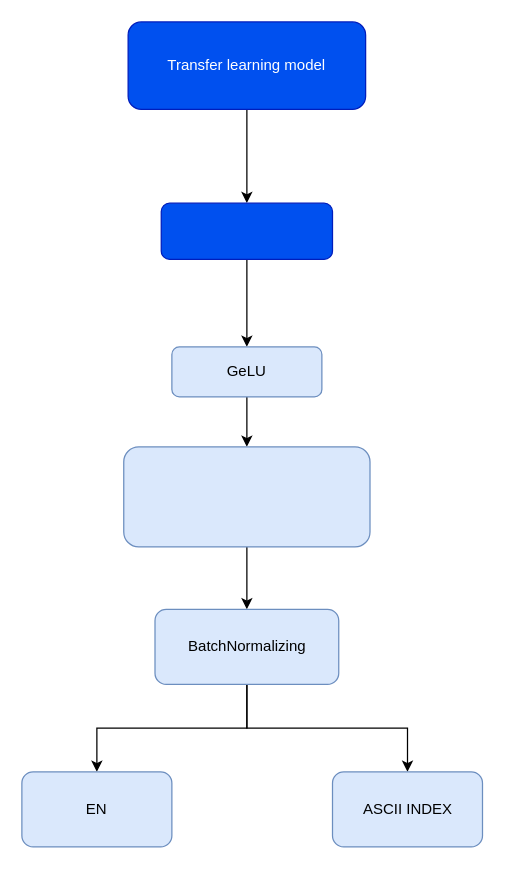
The diagram is 505 pixels wide and 869 high, and some of its shapes have lost their labels. The box of each missing label's shape, as (x1, y1, x2, y2) in pixels:
last layers (trainable): (160, 202, 332, 259)
MultiheadAttention: (122, 446, 370, 547)
